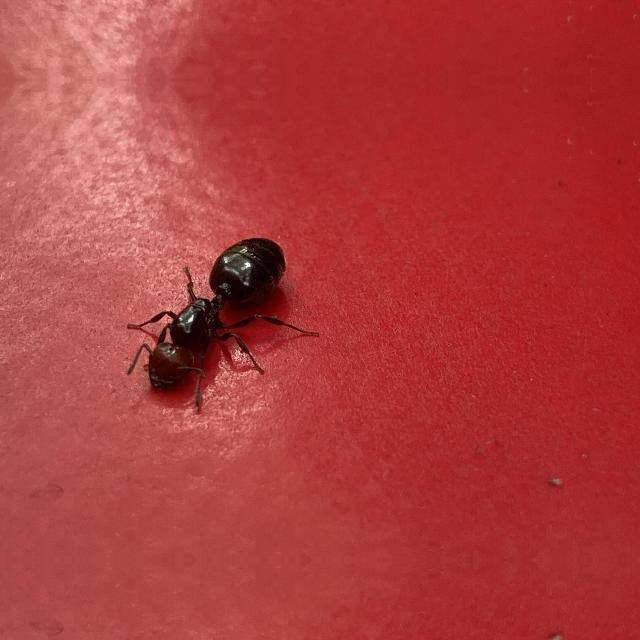Crematogaster: (127, 231, 287, 395)
